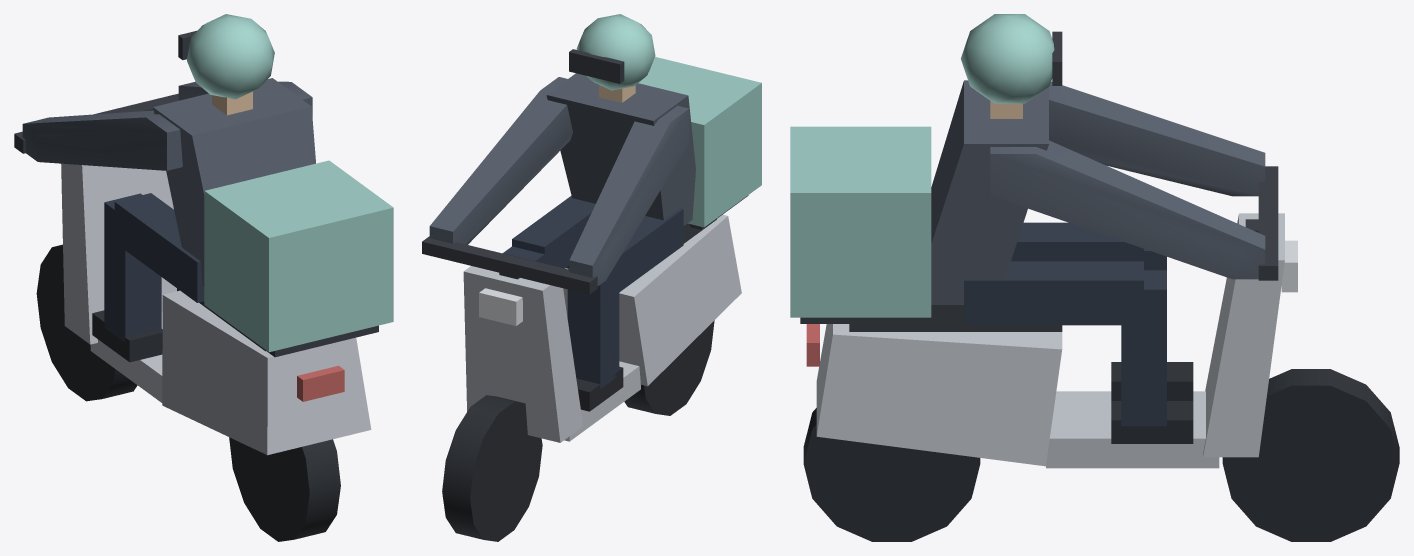
The model's file is scooter.glb.
3 renders of one model, left to right at view 1: azimuth 30°, elevation 25°; view 2: azimuth 150°, elevation 25°; view 3: azimuth 270°, elevation 25°, orthographic. The views are drawn at different scales.
Visible parts, largest first — view 1: Body; view 2: Body; view 3: Body.
Boxes of the visible parts, x1,y1,x2,y2 form: Body: (14, 14, 393, 541); Body: (422, 14, 761, 541); Body: (790, 14, 1399, 541).
Bounding box in the file's own units: 0.72 × 1.74 × 1.86.
